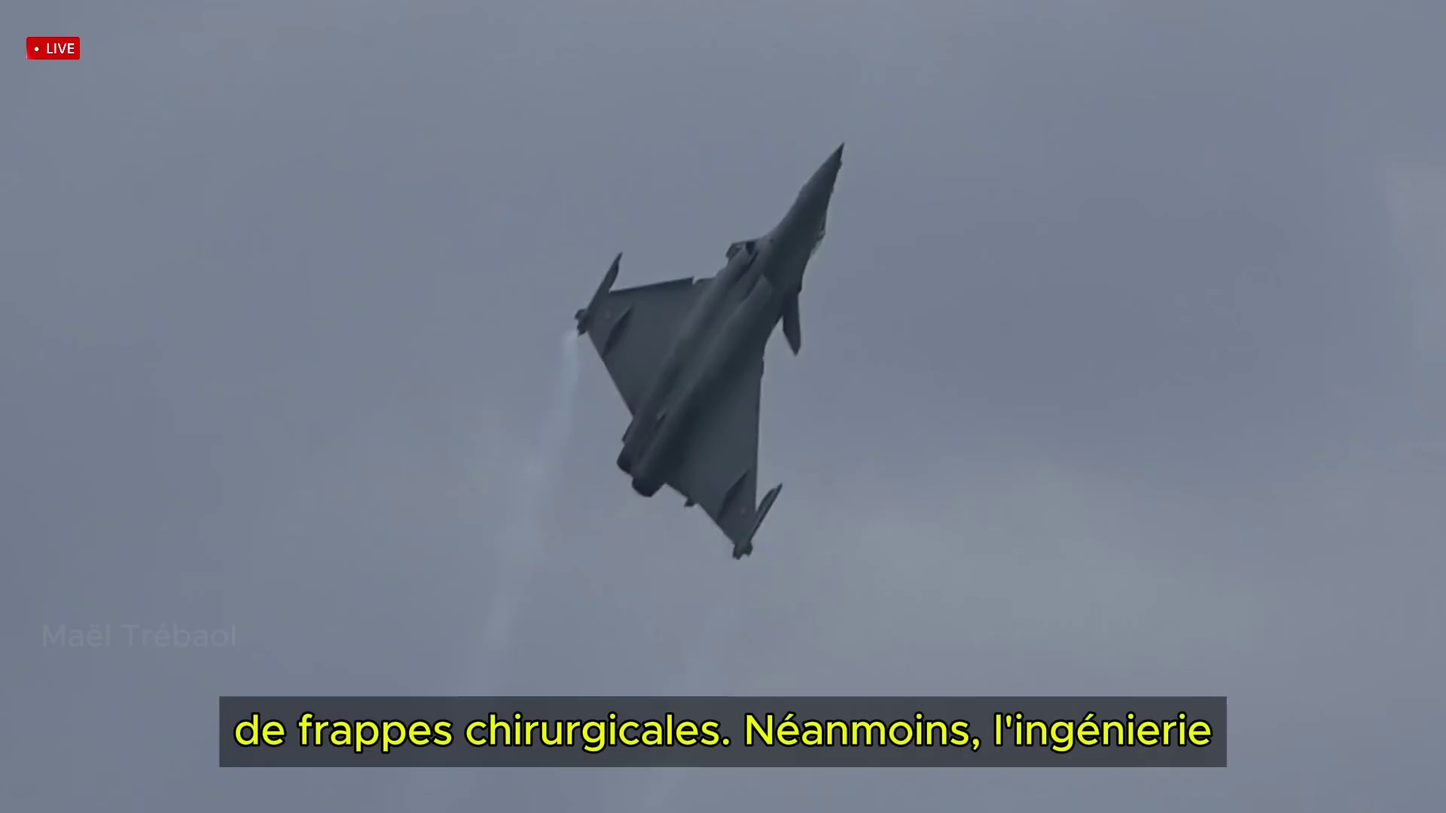Rafale: (574, 144, 840, 565)
